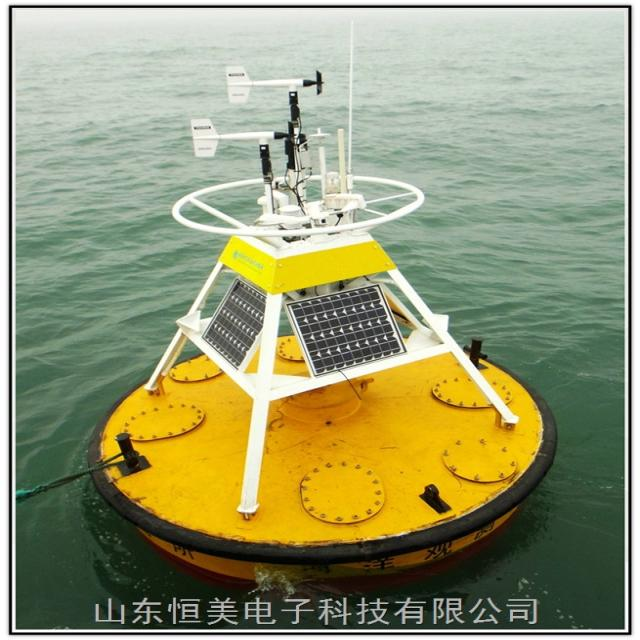buoy: (84, 54, 559, 584)
